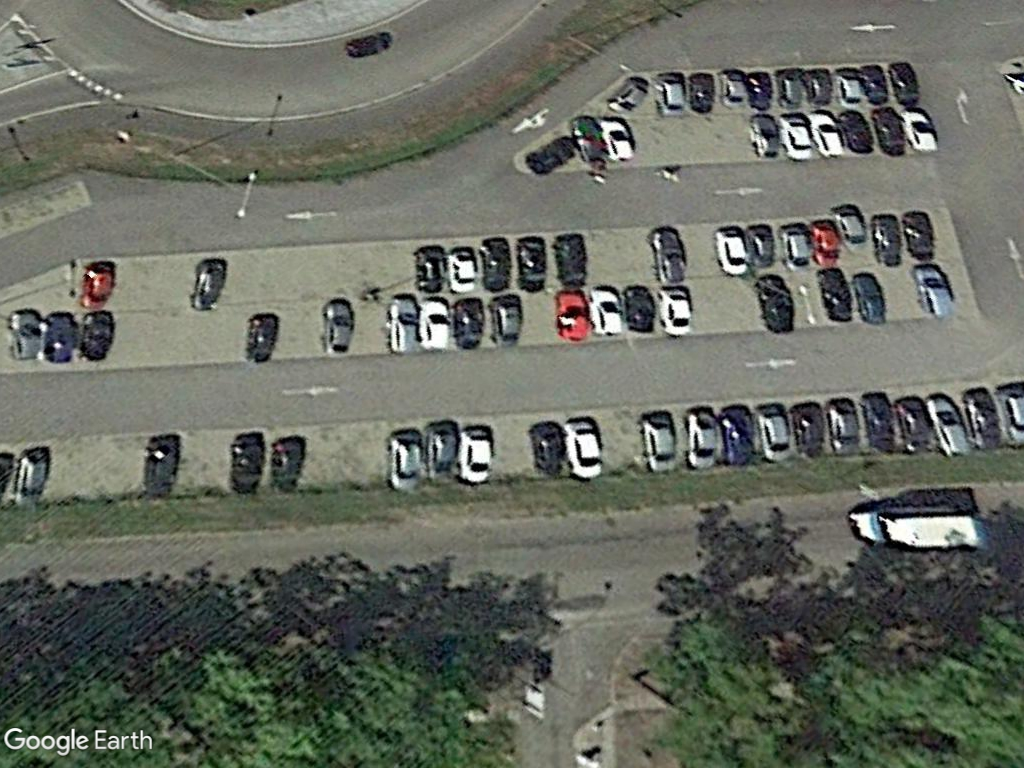car: (560, 416, 608, 483), (636, 408, 683, 476), (456, 421, 496, 489), (753, 402, 793, 464), (683, 406, 720, 472), (385, 291, 420, 357), (587, 284, 627, 340), (8, 306, 44, 368), (80, 257, 119, 313), (80, 306, 117, 365), (322, 295, 356, 359), (831, 205, 871, 259), (193, 254, 227, 317), (478, 236, 514, 295), (420, 297, 455, 357), (776, 220, 814, 275), (712, 224, 750, 278), (656, 283, 692, 338), (45, 308, 79, 365), (413, 243, 449, 296), (450, 242, 478, 297)
